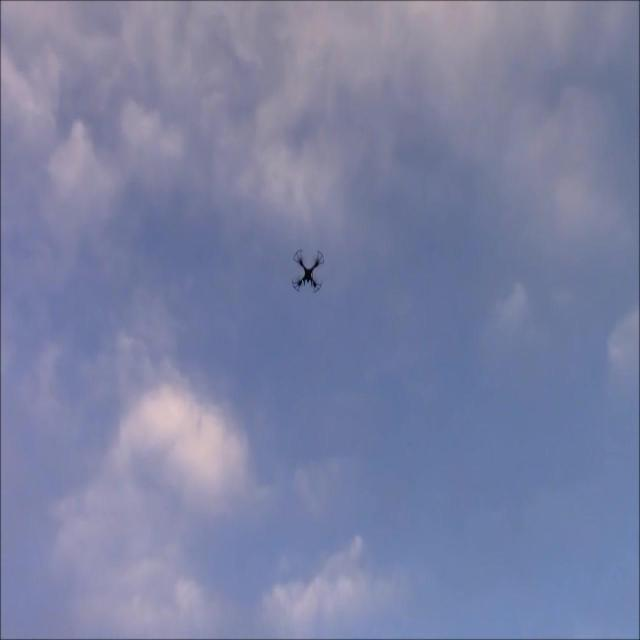drone: (290, 245, 327, 299)
